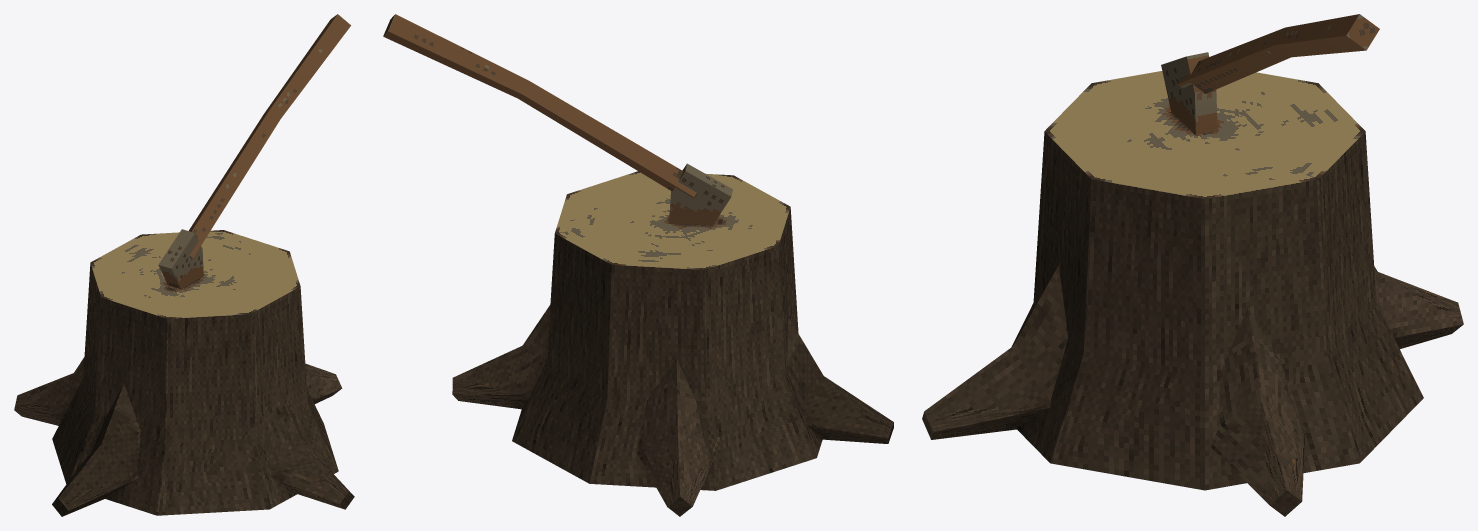
File: Stump_Axe_01.glb
3 renders of one model, left to right at view 1: azimuth 30°, elevation 25°; view 2: azimuth 150°, elevation 25°; view 3: azimuth 270°, elevation 25°, orthographic. The views are drawn at different scales.
Parts seen in each view (by area): view 1: Stump_Axe_01; view 2: Stump_Axe_01; view 3: Stump_Axe_01.
Part boxes in pixels (bbox=[...]): Stump_Axe_01: bbox=[14, 14, 354, 516]; Stump_Axe_01: bbox=[383, 14, 893, 516]; Stump_Axe_01: bbox=[922, 14, 1463, 516].
Bounding box in the file's own units: 0.9032 × 0.8323 × 0.7731.
Materials: 1 (1 with a texture image).
